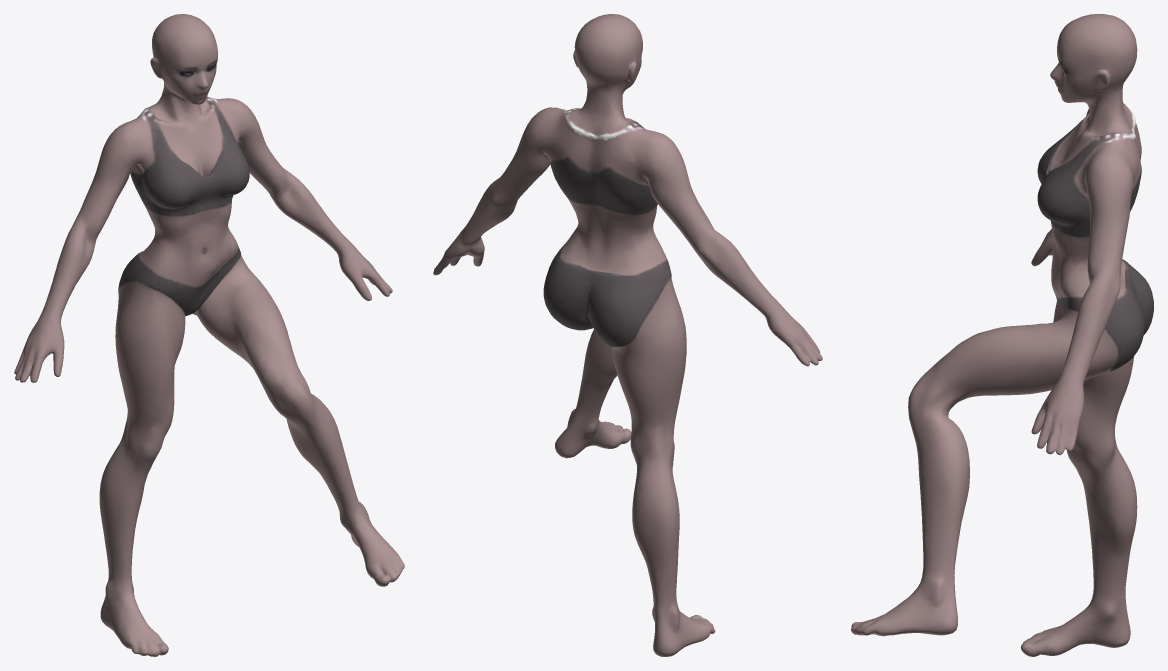
Rendered from 13-ThighR-60-child60-twist20-candidate.glb.
The picture shows the model from 3 angles, left to right: view 1: azimuth 30°, elevation 25°; view 2: azimuth 150°, elevation 25°; view 3: azimuth 270°, elevation 25°; orthographic projection. The views are drawn at different scales.
Visible parts, largest first — view 1: candidate; view 2: candidate; view 3: candidate.
Boxes of the visible parts, x1,y1,x2,y2 form: candidate: [14, 14, 404, 656]; candidate: [433, 14, 822, 656]; candidate: [851, 14, 1153, 656].
Bounding box in the file's own units: 0.6509 × 1 × 0.4126.
Materials: 1 (1 with a texture image).
